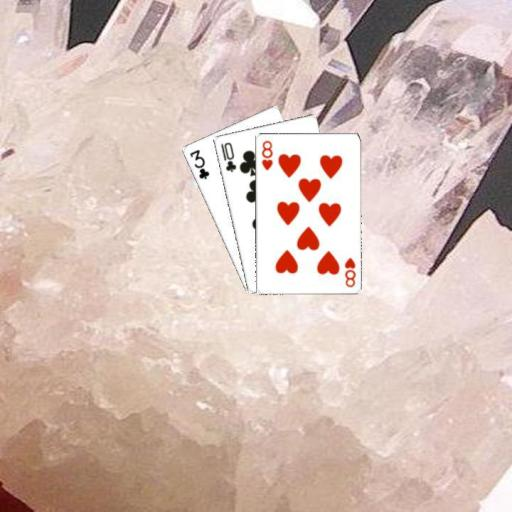10C: (218, 139, 238, 174)
3C: (187, 146, 211, 181)
8H: (258, 138, 274, 172), (342, 255, 357, 288)
